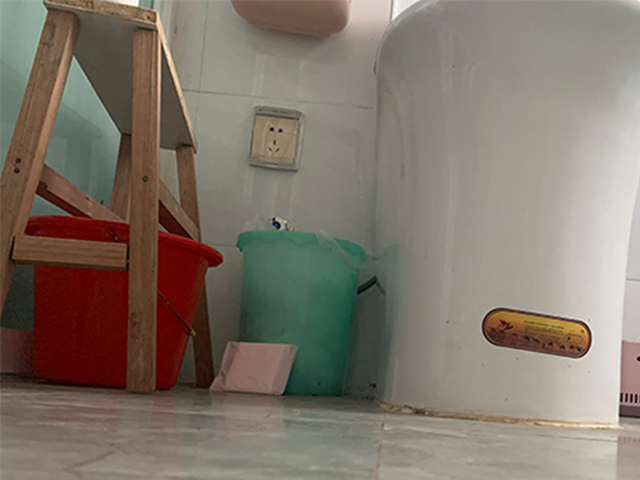closestool: (370, 1, 640, 423)
stool: (1, 1, 215, 394)
trashcan: (236, 228, 368, 399)
